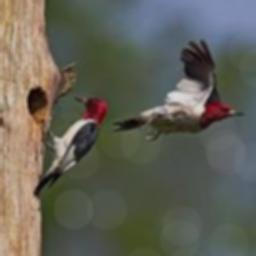Woodpecker: (111, 39, 244, 140), (33, 95, 109, 197)
